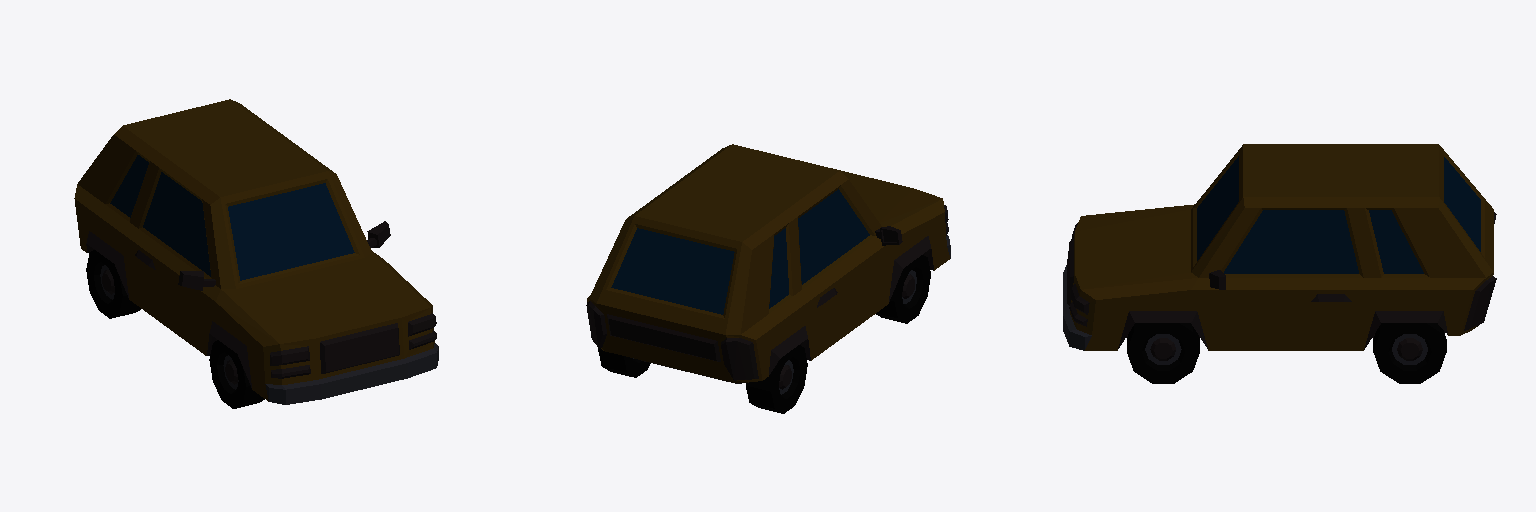
The model's file is Mobil.obj.
3 views of the same model, side by side, from view 1: azimuth 30°, elevation 25°; view 2: azimuth 150°, elevation 25°; view 3: azimuth 270°, elevation 25° (orthographic).
Visible parts, largest first — view 1: VehicleA; view 2: VehicleA; view 3: VehicleA.
Part boxes in pixels (x1,y1,x2,y2): VehicleA: (74, 99, 438, 408); VehicleA: (586, 144, 950, 413); VehicleA: (1063, 144, 1496, 383).
Bounding box in the file's own units: 1.79 × 1.4 × 3.22.